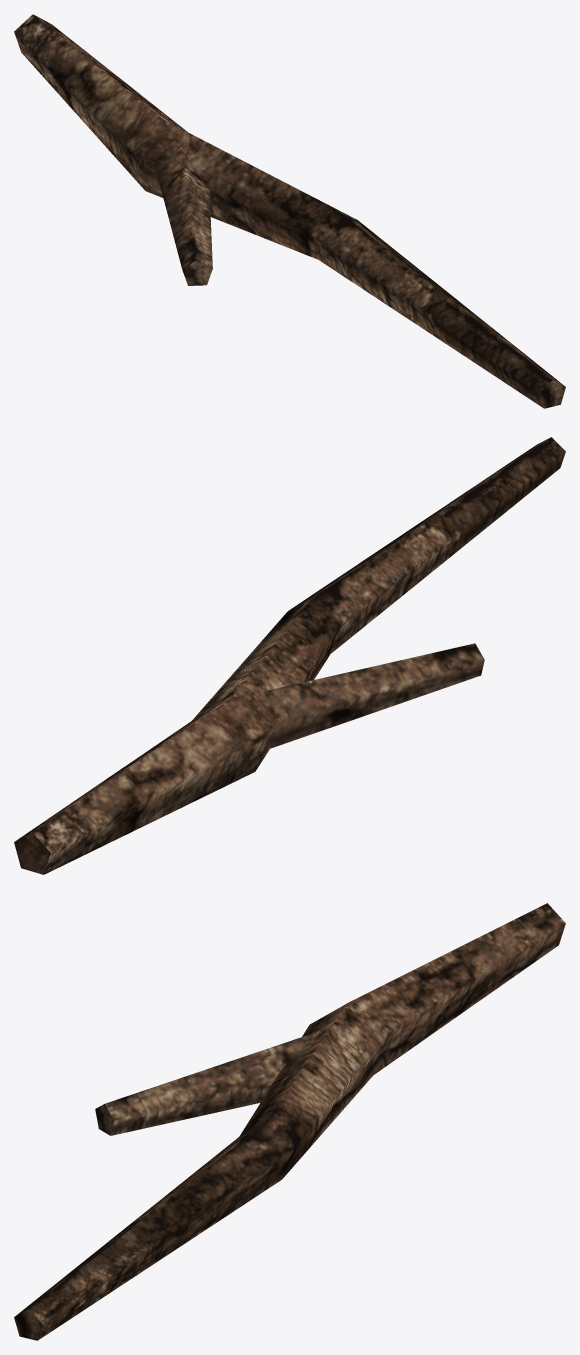
The model's file is SM_FOL_Stick_01_C.glb.
3 views of the same model, one above another, from view 1: azimuth 30°, elevation 25°; view 2: azimuth 150°, elevation 25°; view 3: azimuth 330°, elevation 25° (orthographic). The views are drawn at different scales.
Parts seen in each view (by area): view 1: SM_FOL_Stick_01_C; view 2: SM_FOL_Stick_01_C; view 3: SM_FOL_Stick_01_C.
Part boxes in pixels (x1=…): SM_FOL_Stick_01_C: x1=14, y1=14, x2=565, y2=408; SM_FOL_Stick_01_C: x1=14, y1=437, x2=565, y2=874; SM_FOL_Stick_01_C: x1=14, y1=903, x2=565, y2=1340.
Size of the model in its own units: 0.1561 by 0.0543 by 0.757.
Materials: 1 (1 with a texture image).
